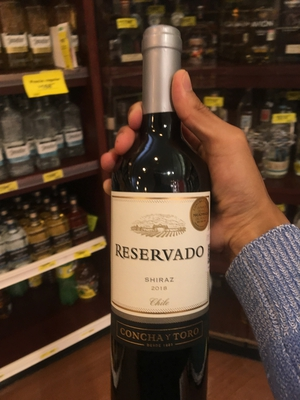reservado shiraz: (98, 30, 216, 400)
